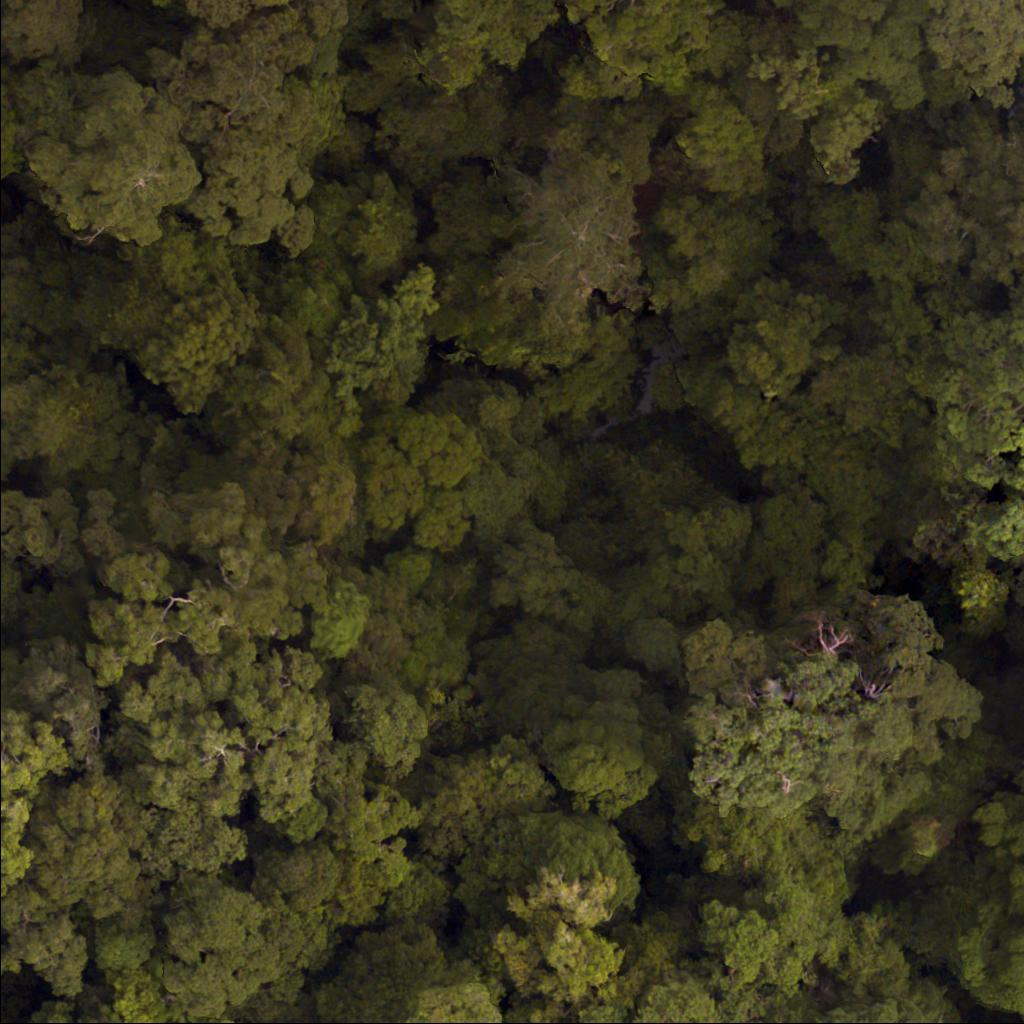crown: (87, 408, 375, 676), (101, 635, 367, 842), (149, 0, 350, 259), (20, 75, 196, 247), (909, 293, 1023, 557), (499, 146, 651, 342), (498, 856, 639, 1019), (636, 190, 787, 308), (155, 879, 286, 1014), (770, 0, 924, 111), (556, 0, 729, 93), (412, 738, 544, 857), (0, 363, 127, 478), (27, 785, 144, 908), (474, 627, 598, 743), (310, 921, 445, 1023), (141, 294, 249, 418), (428, 261, 544, 376), (311, 177, 424, 285), (375, 85, 507, 174), (644, 493, 753, 598), (668, 89, 774, 194), (326, 292, 425, 404), (230, 335, 336, 439), (531, 312, 633, 418), (917, 0, 1023, 101), (542, 725, 662, 807), (0, 888, 91, 991), (0, 677, 60, 833), (426, 166, 511, 261), (346, 674, 428, 772), (395, 411, 483, 493), (812, 445, 891, 532), (360, 436, 428, 537), (85, 271, 169, 352), (262, 252, 347, 332), (130, 223, 222, 294), (392, 967, 503, 1023), (826, 978, 962, 1023), (15, 247, 81, 337), (594, 101, 662, 187), (0, 0, 90, 61), (505, 63, 562, 152), (760, 486, 825, 562), (955, 569, 1017, 648), (411, 483, 476, 556), (405, 630, 473, 689), (560, 52, 642, 100), (153, 0, 282, 25), (0, 215, 28, 322), (626, 618, 681, 670), (393, 265, 438, 317), (0, 66, 18, 180), (0, 822, 28, 893), (385, 546, 432, 586), (0, 565, 25, 622), (75, 991, 119, 1023), (652, 368, 683, 412), (27, 1003, 73, 1023), (0, 439, 12, 487)
